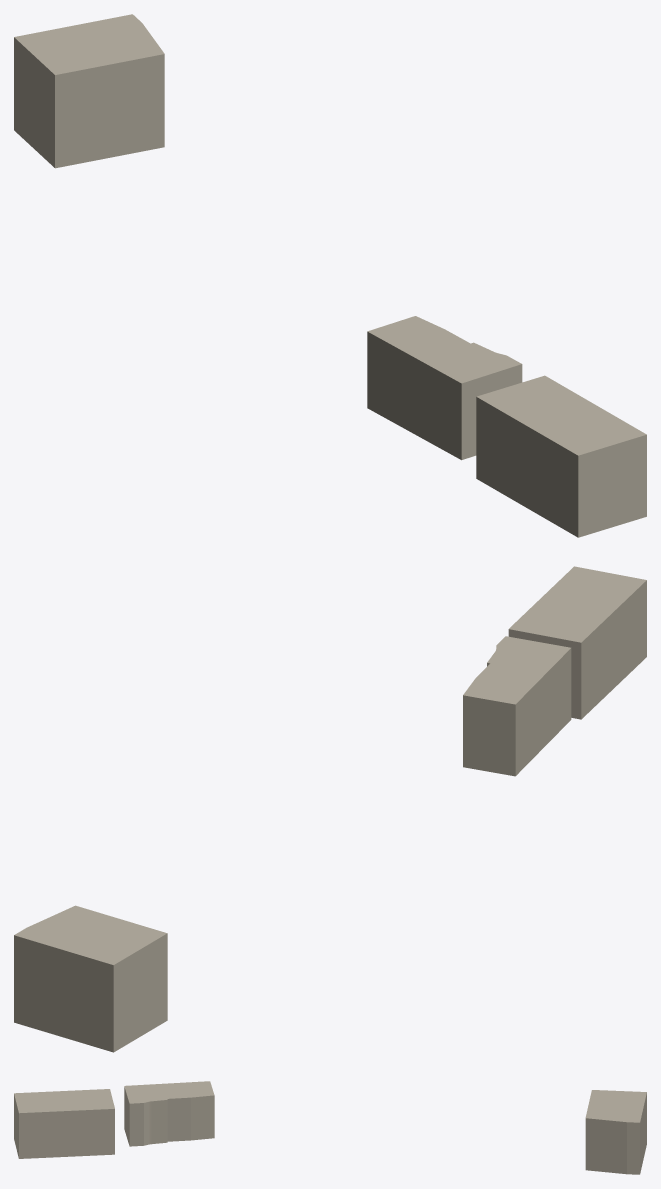
The model's file is senglea_56_31_collision.glb.
The picture shows the model from 3 angles, top to bottom: view 1: azimuth 30°, elevation 25°; view 2: azimuth 150°, elevation 25°; view 3: azimuth 270°, elevation 25°; orthographic projection. The views are drawn at different scales.
Parts seen in each view (by area): view 1: geometry_0; view 2: geometry_0; view 3: geometry_0.
Part boxes in pixels (x1,y1,x2,y2): geometry_0: [14, 14, 646, 537]; geometry_0: [14, 566, 646, 1052]; geometry_0: [14, 1081, 646, 1174].
Bounding box in the file's own units: 23.38 × 14.02 × 153.
